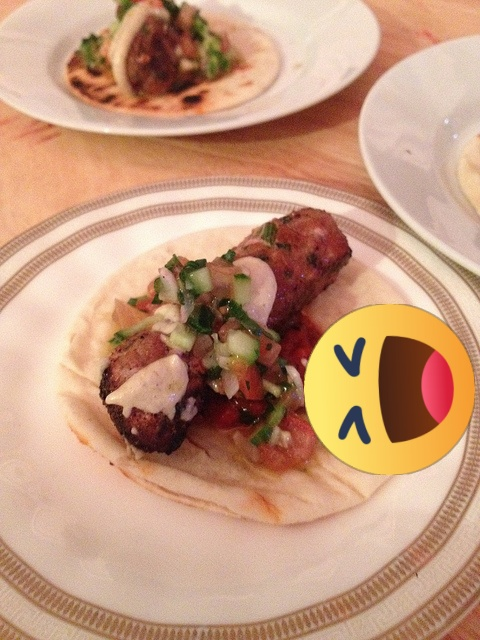haha: (304, 304, 475, 475)
